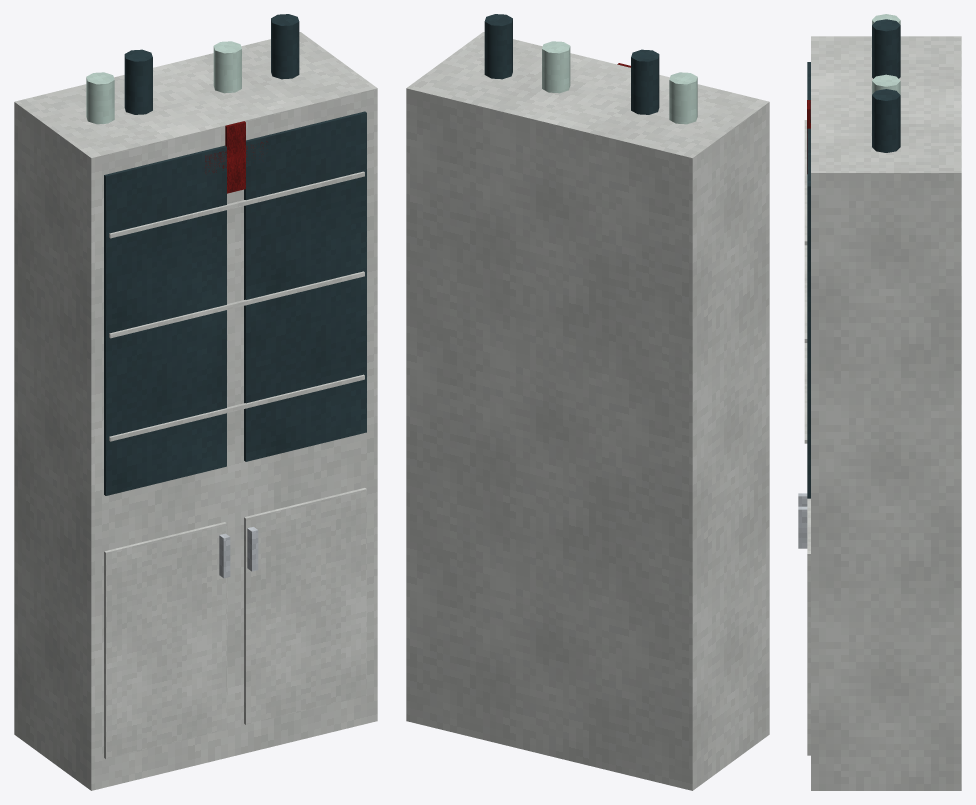
The model's file is tfg_med_cabinet.glb.
3 views of the same model, side by side, from view 1: azimuth 30°, elevation 25°; view 2: azimuth 150°, elevation 25°; view 3: azimuth 270°, elevation 25° (orthographic). The views are drawn at different scales.
Parts seen in each view (by area): view 1: tfg_med_cabinet; view 2: tfg_med_cabinet; view 3: tfg_med_cabinet.
Part boxes in pixels (x1,y1,x2,y2): tfg_med_cabinet: (14, 14, 377, 790); tfg_med_cabinet: (406, 14, 769, 790); tfg_med_cabinet: (798, 14, 961, 790).
Size of the model in its own units: 0.9 by 2.06 by 0.455.
Materials: 5 (5 with a texture image).
